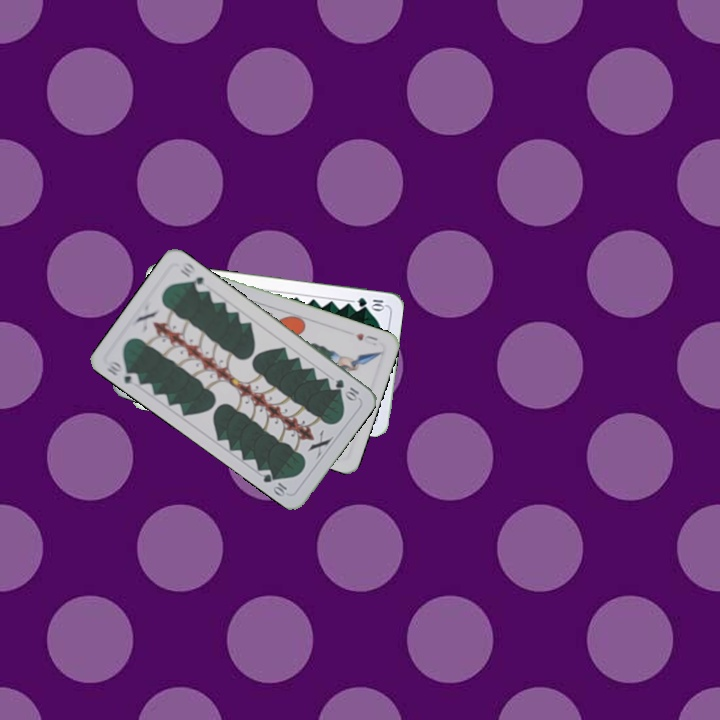G10: (102, 357, 142, 388), (331, 375, 361, 403), (354, 294, 388, 311)
HU: (351, 329, 380, 349)
